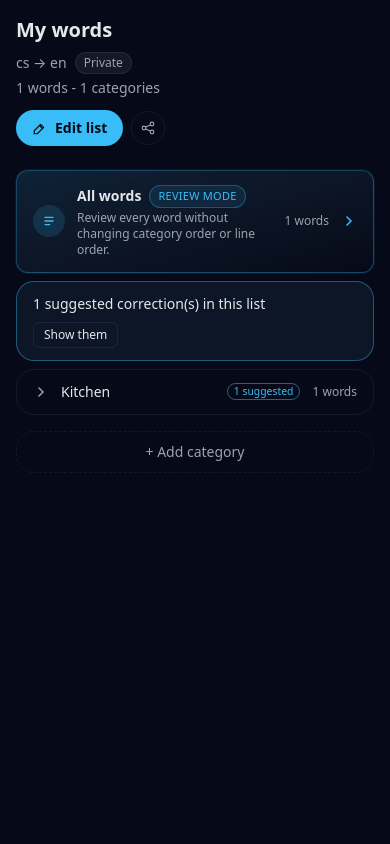
Test case: a refused read › clears the suggestions on 401
expect the text "1 suggested correction(s) in this list" is shown: met, box [33,294,265,314]
Click the button "Show them". click: click(76, 334)
box: [33,322,118,348]
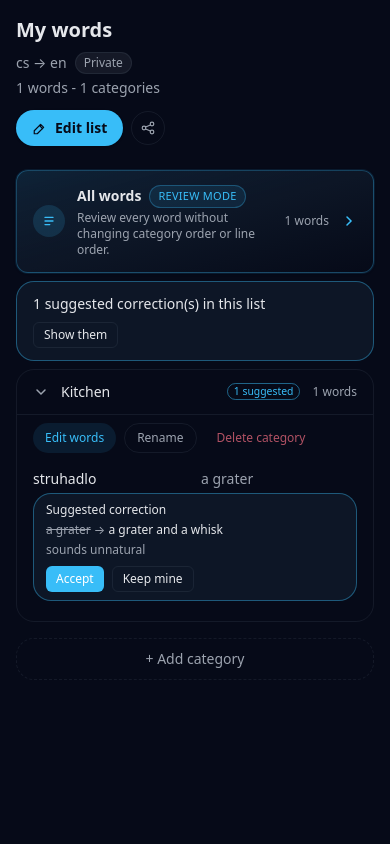
Click the button "Accept". click: click(75, 578)
box: [46,566,104,592]
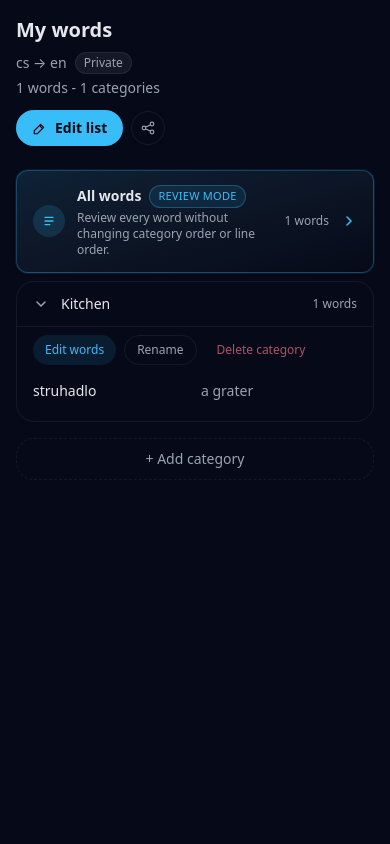
expect the text "suggested correction" is gone: met
expect the button "Accept" is gone: met
